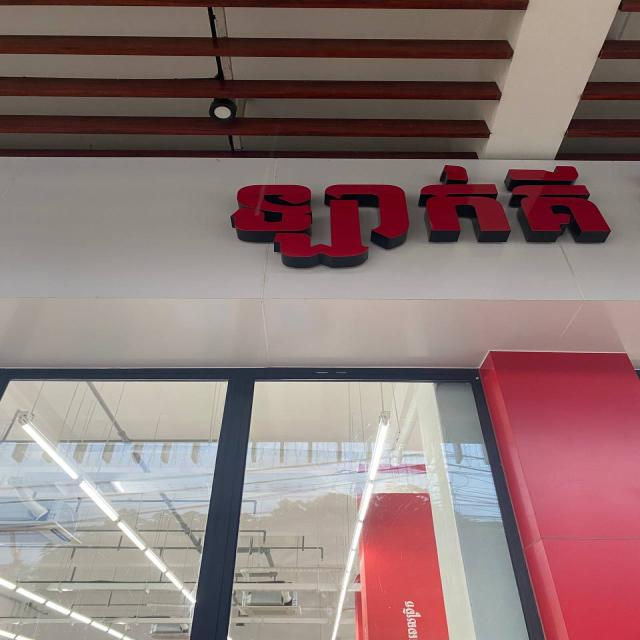Yolov11_80vkh: (225, 163, 619, 280), (396, 595, 423, 640)
